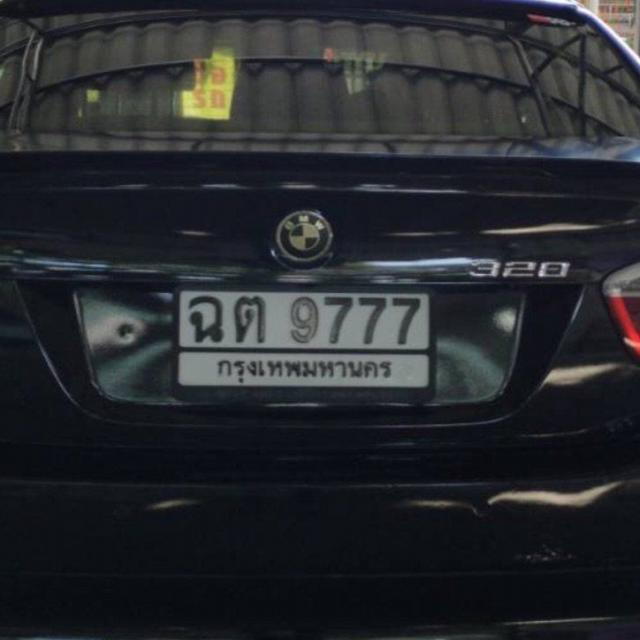license_plate: (170, 283, 438, 402)
